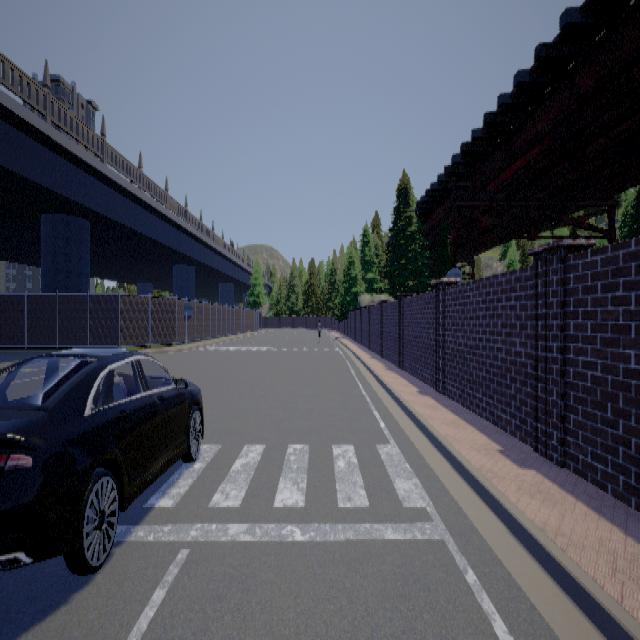vehicle: (0, 347, 203, 574)
